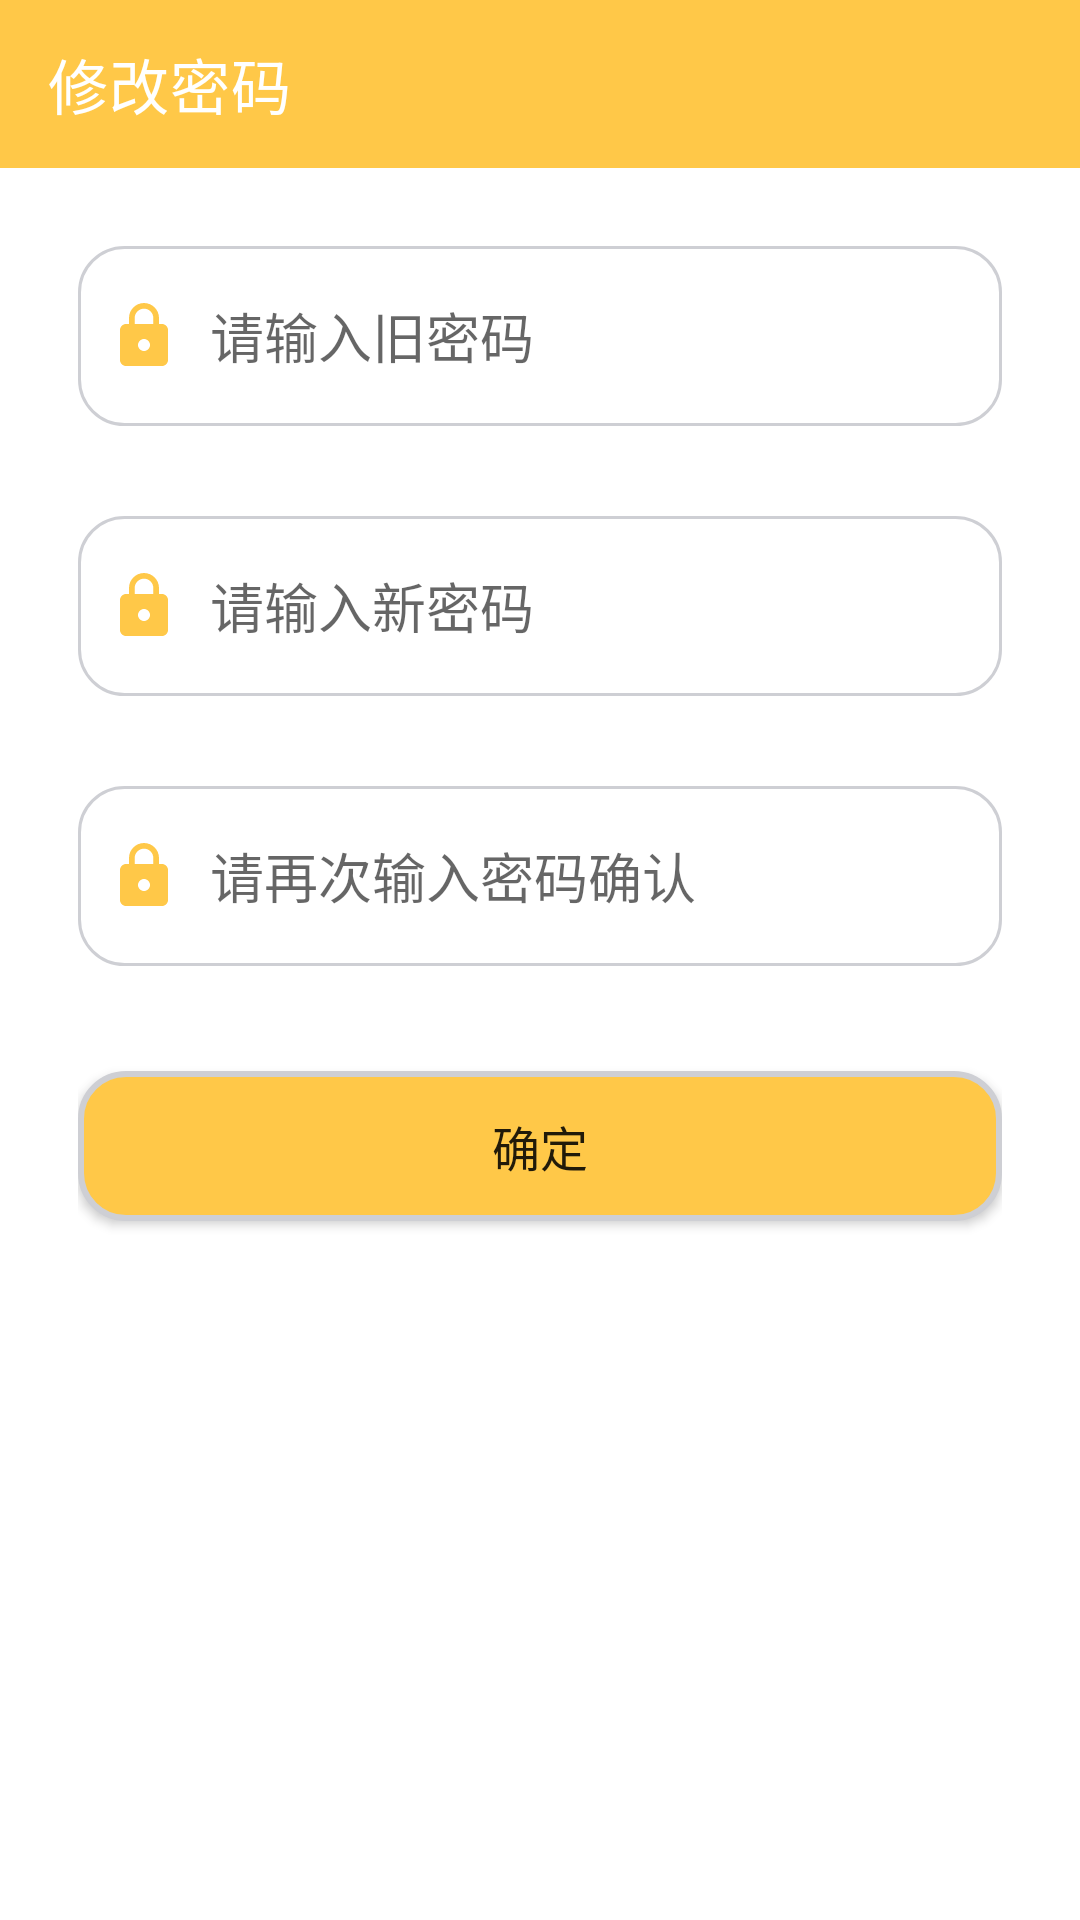

Where icons sit on this 1080px x 1920px app screen, as (x1, y1, x2, y2):
lock: (120, 303, 168, 366), (120, 573, 168, 636), (120, 843, 168, 906)
